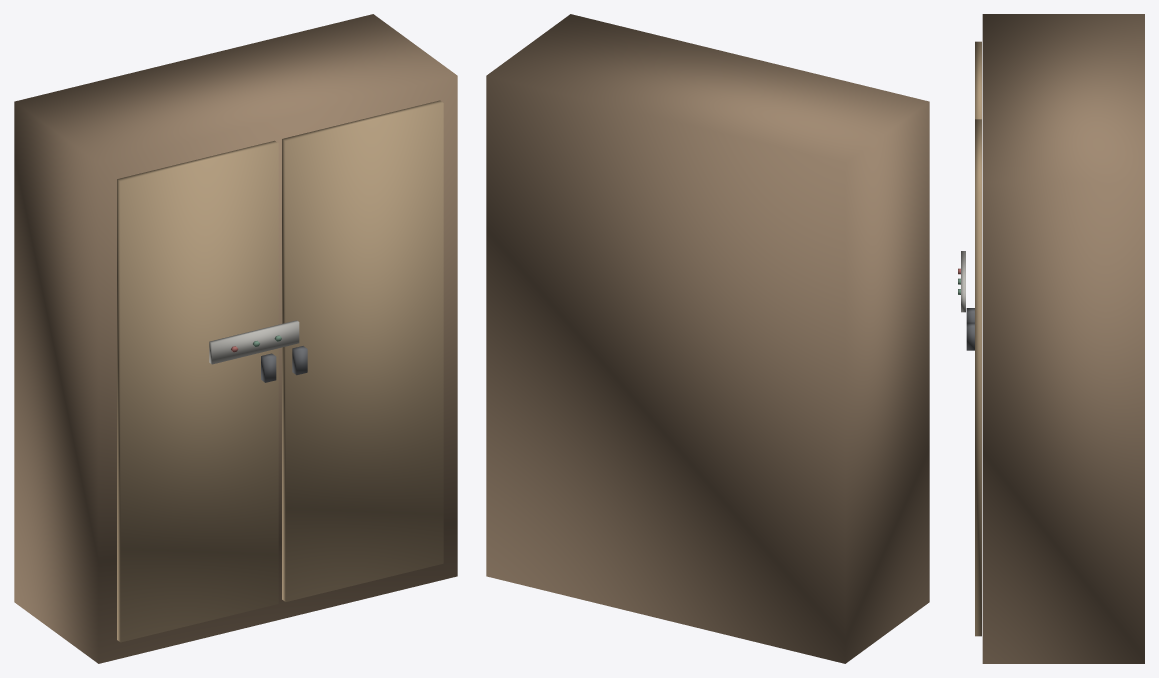
The model's file is wardrobe__wide.glb.
The picture shows the model from 3 angles, left to right: view 1: azimuth 30°, elevation 25°; view 2: azimuth 150°, elevation 25°; view 3: azimuth 270°, elevation 25°; orthographic projection. The views are drawn at different scales.
Visible parts, largest first — view 1: world; view 2: world; view 3: world.
Part boxes in pixels (x1=…): world: x1=14, y1=14, x2=457, y2=663; world: x1=486, y1=14, x2=929, y2=663; world: x1=958, y1=14, x2=1144, y2=663.
Bounding box in the file's own units: 1.43 × 1.9 × 0.6685.
